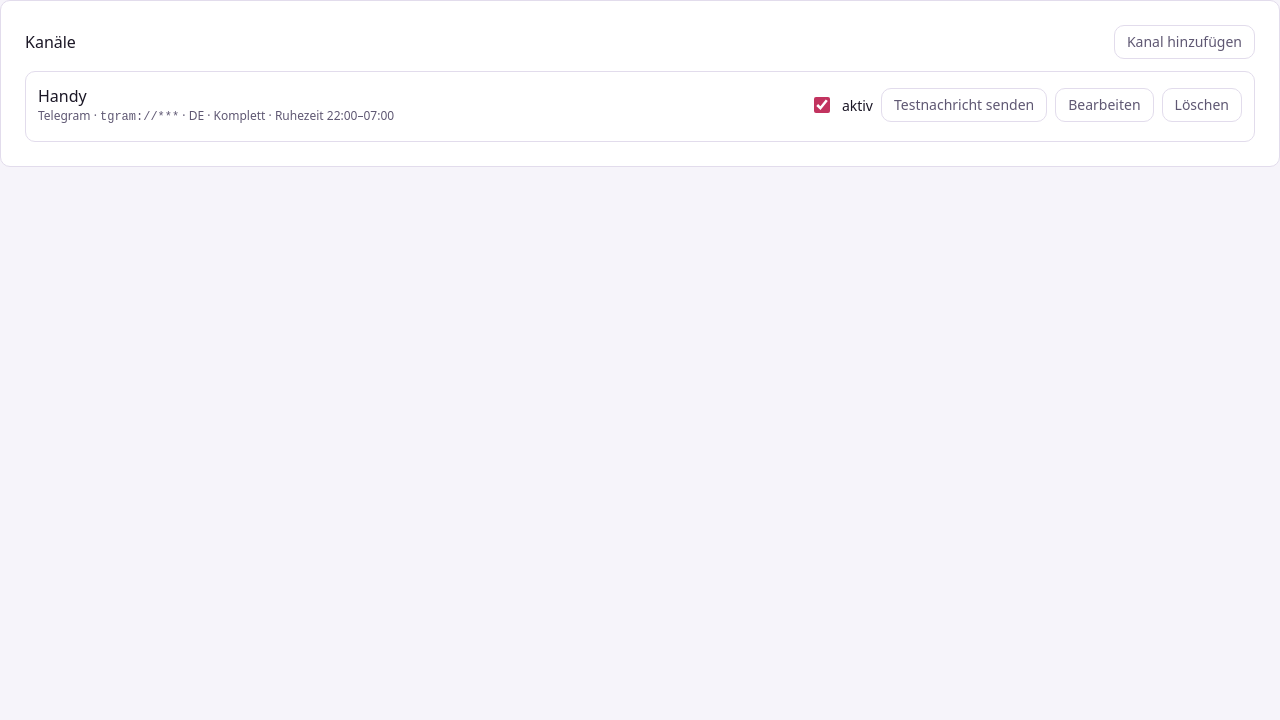
editing a channel keeps the stored token unless a new one is entered
Click the button "Bearbeiten".
click(1104, 104)  # box [1055, 88, 1154, 122]
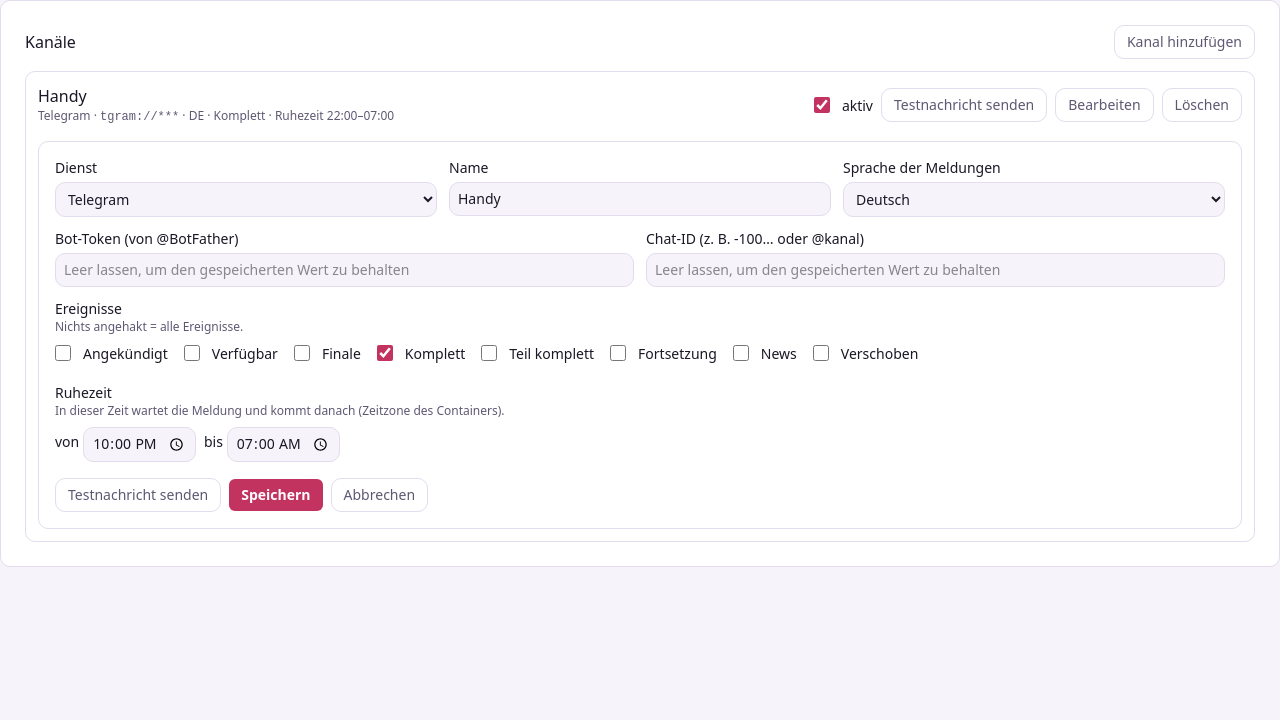
Now the field labelled "Name" holds "Handy"
Now the checkbox labelled "Komplett" is checked, box [377, 345, 393, 361]
Now the time field labelled "von" holds "22:00", box [83, 427, 196, 462]
Replace the text in the field labelled "Name" with "Telegram" at [640, 199], box [449, 182, 831, 216]
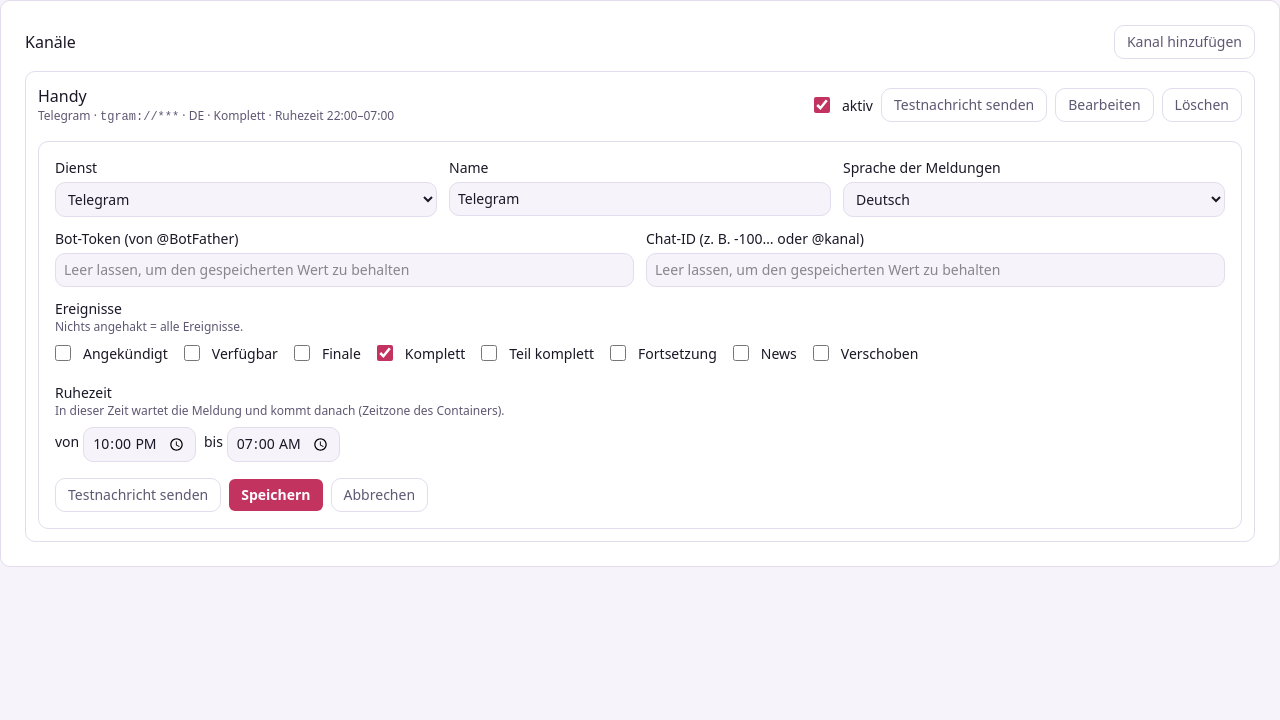
Click the checkbox labelled "Finale".
click(302, 353)  # box [294, 345, 310, 361]
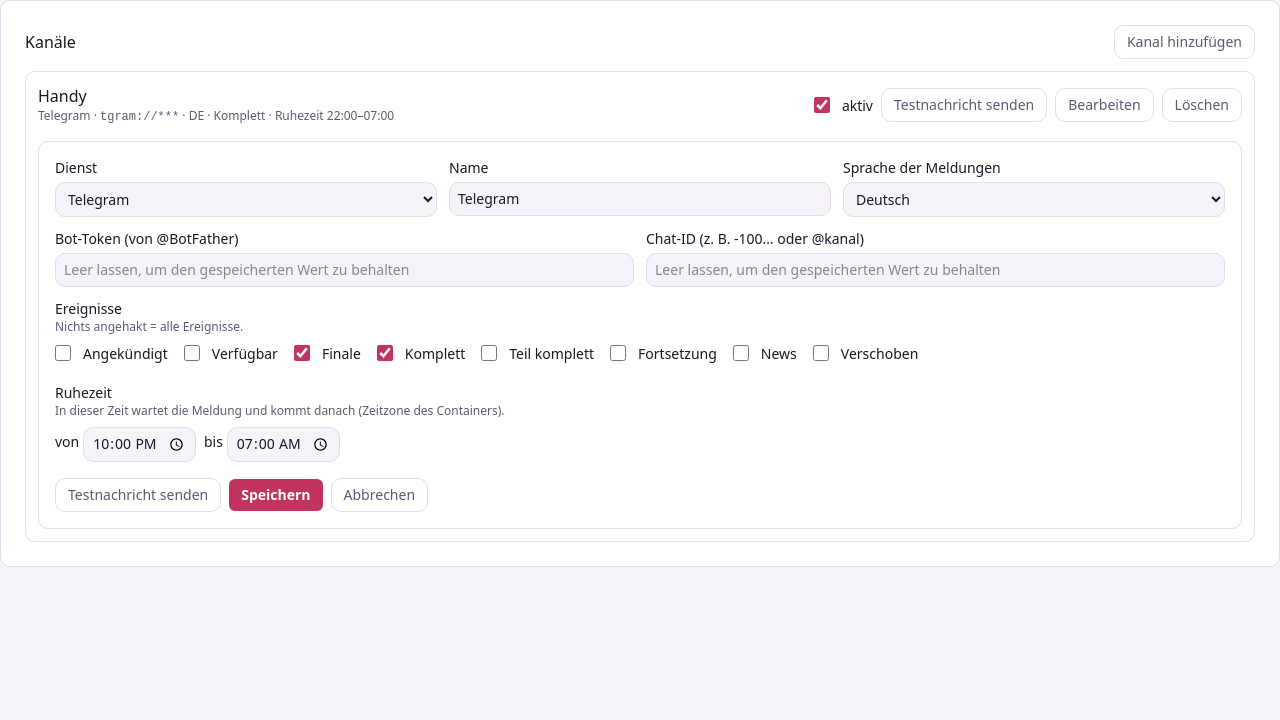
Clear the time field labelled "von" at [140, 444], box [83, 427, 196, 462]
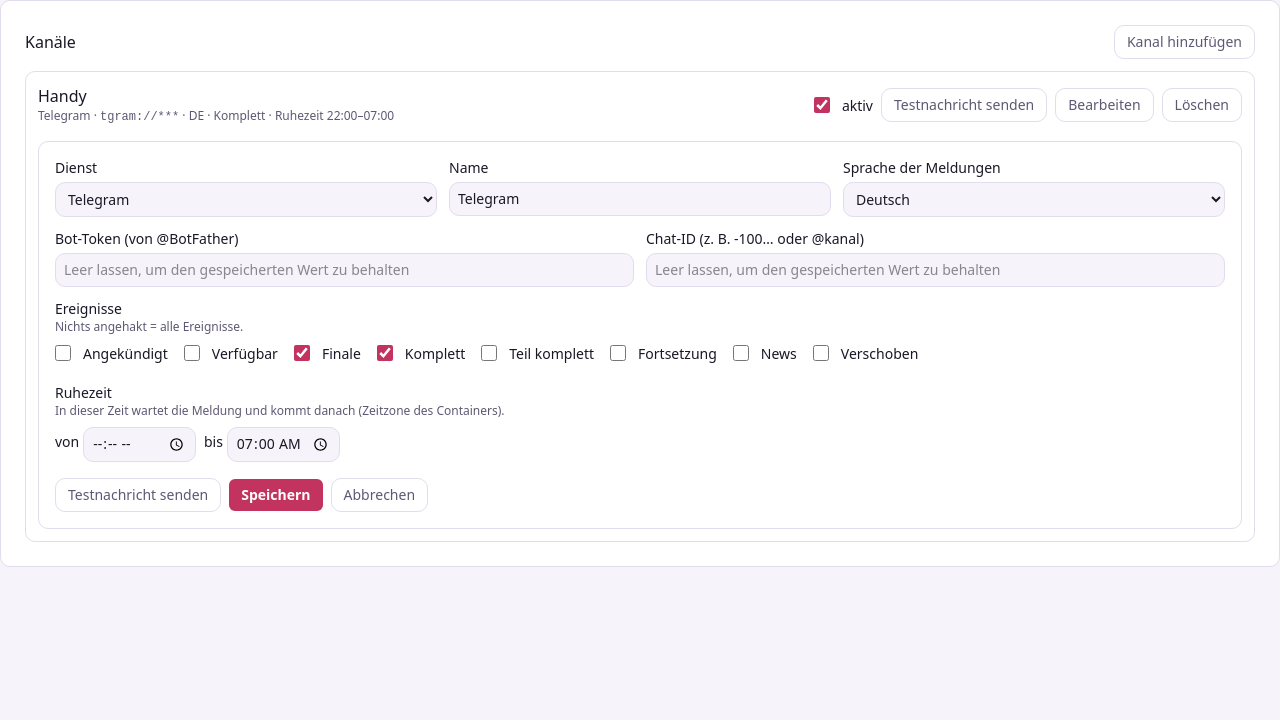
Click the button "Speichern".
click(276, 495)  # box [229, 479, 322, 511]
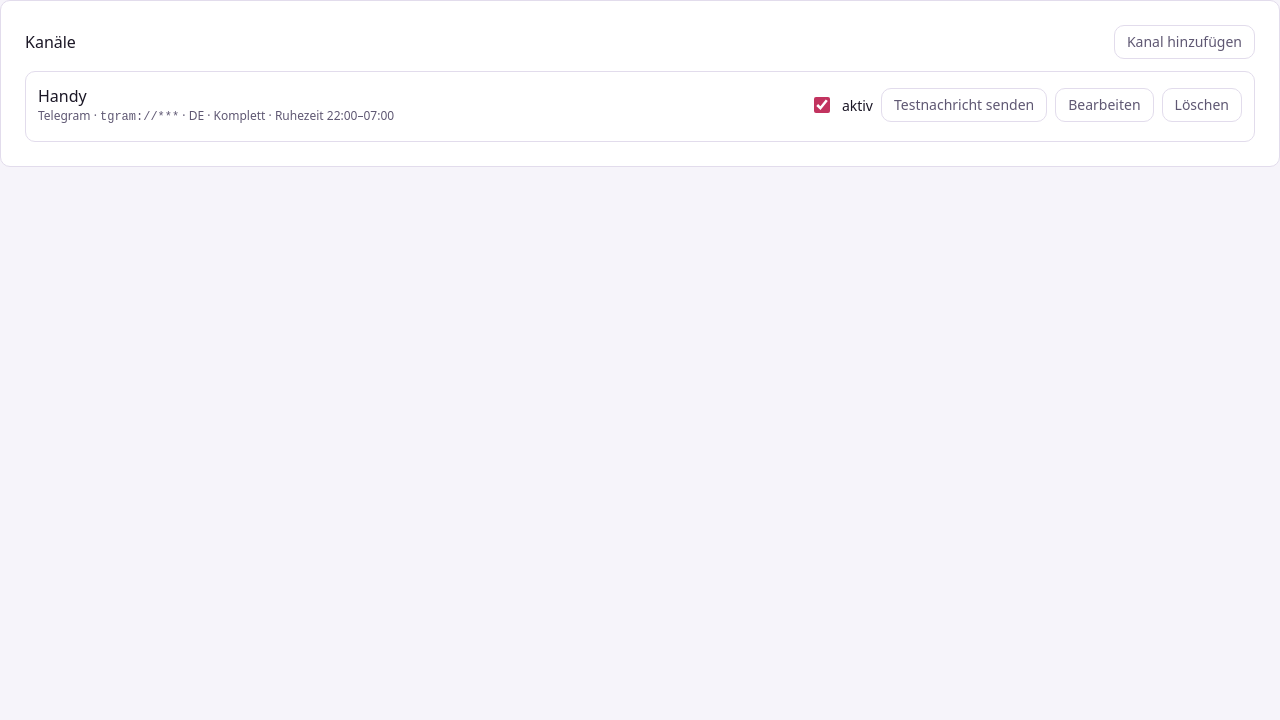
Now the label labelled "Name" is gone
